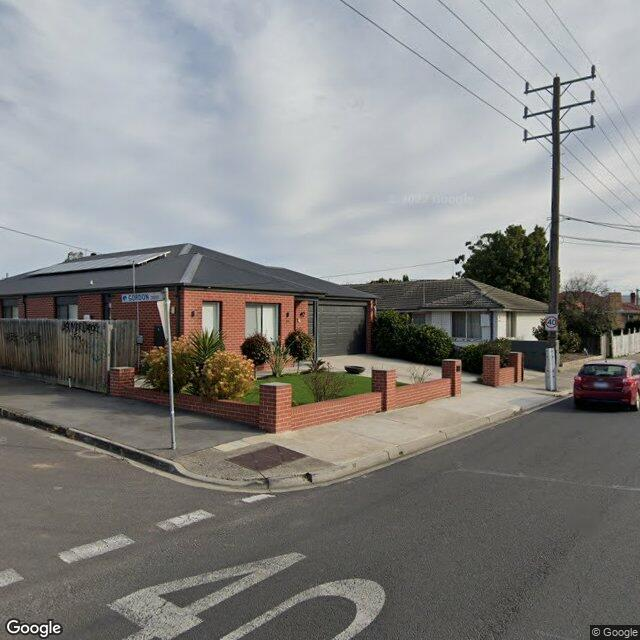HV-transmission: (523, 64, 596, 142)
crossarm: (522, 89, 596, 120), (523, 64, 596, 95), (522, 113, 595, 144)
timber-pole: (545, 72, 561, 390)
